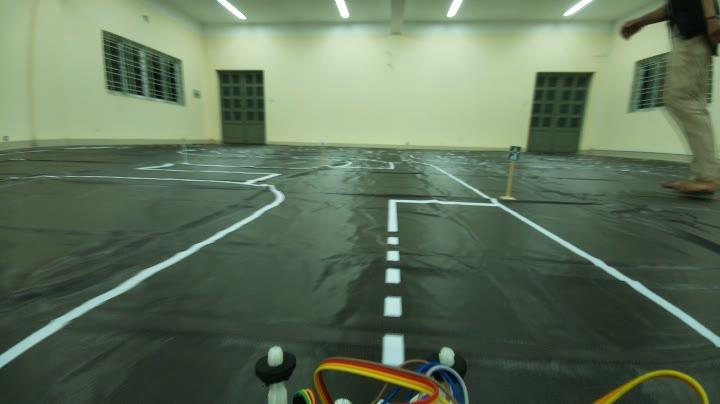highway_exit: (506, 142, 522, 164)
